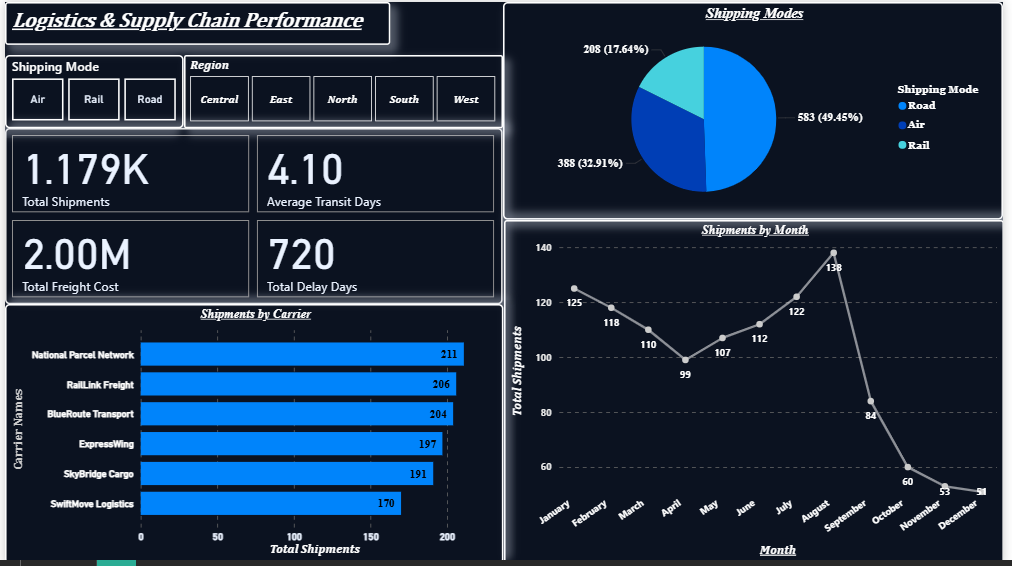

Layout of this report page (visuals, bound fields, positions):
{"tool":"powerbi","page":{"name":"Page 1","canvas":[1280,720],"ordinal":0},"visuals":[{"type":"cardVisual","fields":{"Data":["Count(logistics_portfolio shipments.ï»¿shipment_id)","Avg(logistics_portfolio shipments.actual_transit_days)","Sum(logistics_portfolio shipments.freight_cost_inr)","Sum(logistics_portfolio shipments.delay_days)"]},"box":[0,161.3,637.9,226.1],"z":0},{"type":"pieChart","title":"Shipping Modes","fields":{"Category":["logistics_portfolio shipments.shipping_mode"],"Y":["CountNonNull(logistics_portfolio shipments.shipment_id)"]},"box":[638.5,0,641,279.5],"z":1},{"type":"lineChart","title":"Shipments by Month","fields":{"Category":["logistics_portfolio shipments.order_date.Variation.Date Hierarchy.Month"],"Y":["CountNonNull(logistics_portfolio shipments.shipment_id)"]},"box":[639.4,279.4,640.8,440.6],"z":2},{"type":"barChart","title":" Shipments by Carrier","fields":{"Category":["logistics_portfolio carriers.carrier_name"],"Y":["CountNonNull(logistics_portfolio shipments.shipment_id)"]},"box":[0,387.4,639.4,332.6],"z":3},{"type":"textbox","box":[0,0,493.9,54.7],"z":4},{"type":"advancedSlicerVisual","title":"Region","fields":{"Values":["logistics_portfolio locations.region"]},"box":[229.5,67.9,409,93.6],"z":5},{"type":"advancedSlicerVisual","title":"Shipping Mode","fields":{"Values":["logistics_portfolio shipments.shipping_mode"]},"box":[0,67.9,229.5,93.6],"z":6}]}

Visuals, with their boxes in screenshot pixels (x1, y1, x2, y2), scaled from the page's 1280x720 canvas onto the 1012x566 screenshot:
cardVisual - Count(logistics_portfolio shipments.ï»¿shipment_id) x Avg(logistics_portfolio shipments.actual_transit_days): 0, 127, 504, 305
"Shipping Modes" pieChart: 505, 0, 1011, 220
"Shipments by Month" lineChart: 506, 220, 1011, 565
" Shipments by Carrier" barChart: 0, 305, 506, 565
textbox: 0, 0, 390, 43
"Region" advancedSlicerVisual: 181, 53, 505, 127
"Shipping Mode" advancedSlicerVisual: 0, 53, 181, 127
